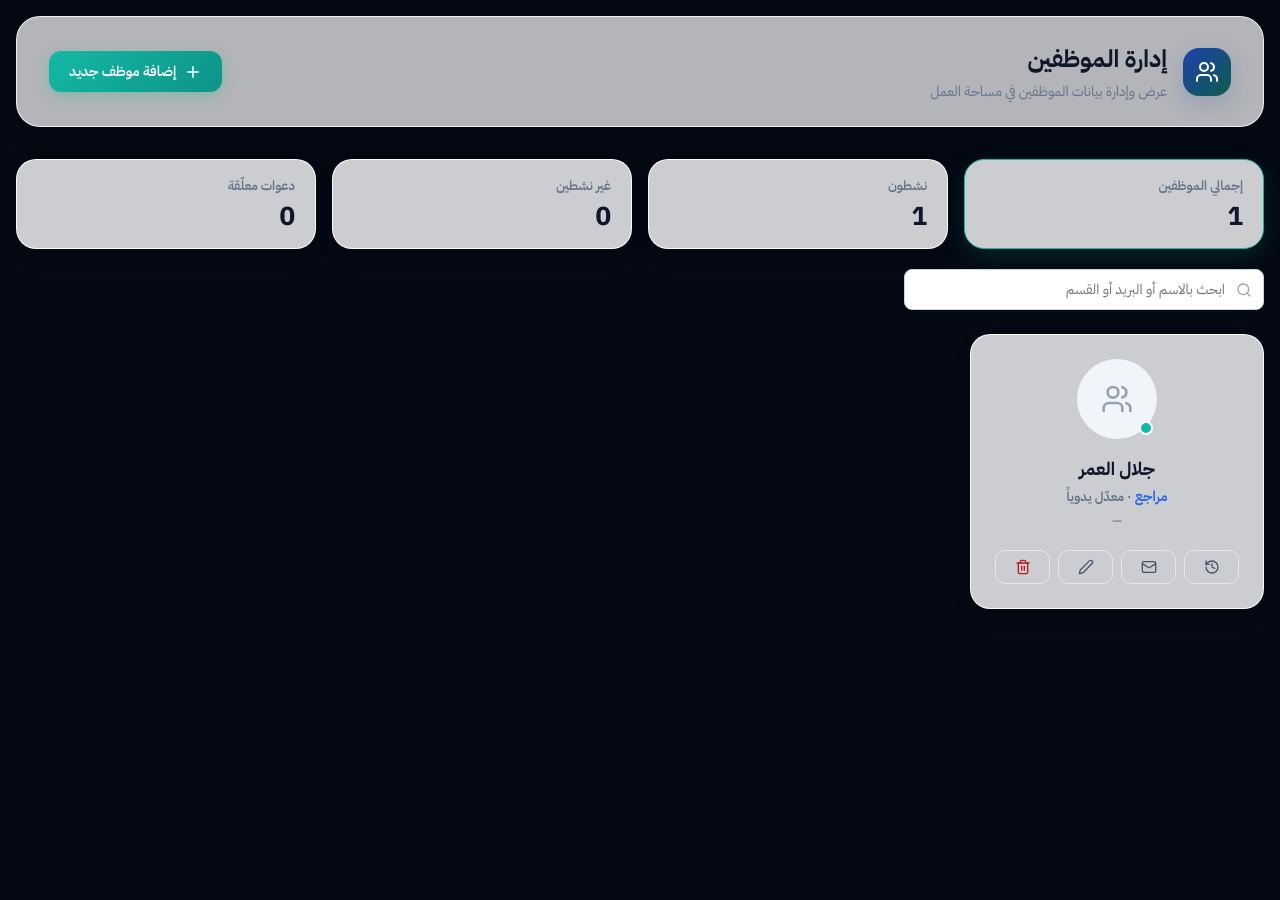
Test: role history on the employee card › lists who set the role and how (automatic from the category / changed by hand) with role names
Click the button named "سجل دور جلال العمر": (1212, 567) [1184, 550, 1239, 584]
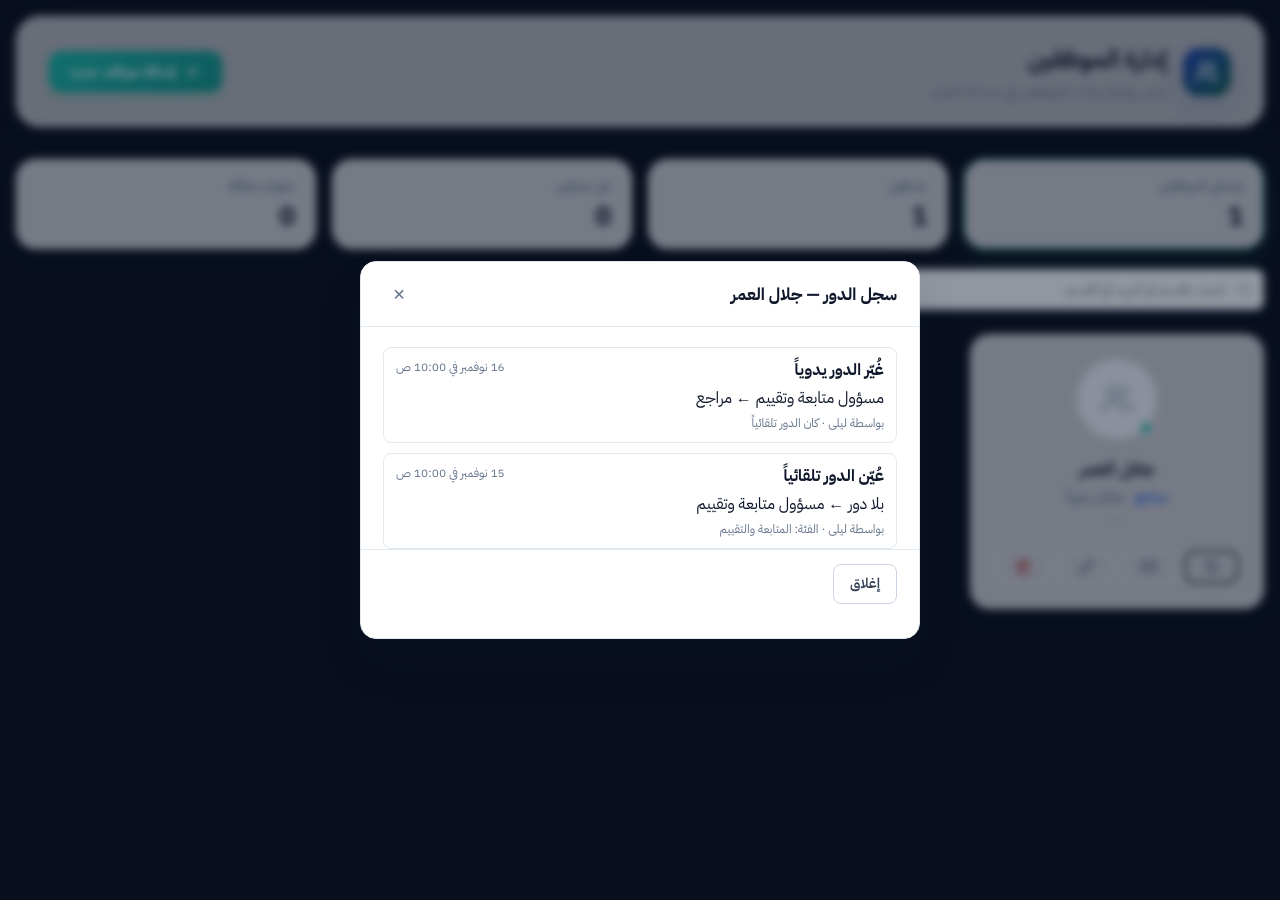
Expected: the text "غُيّر الدور يدوياً" is shown, [795, 358, 884, 382]
Expected: the text "عُيّن الدور تلقائياً" is shown, [784, 464, 884, 488]
Expected: the text "مسؤول متابعة وتقييم ← مراجع" is shown, [696, 386, 884, 410]
